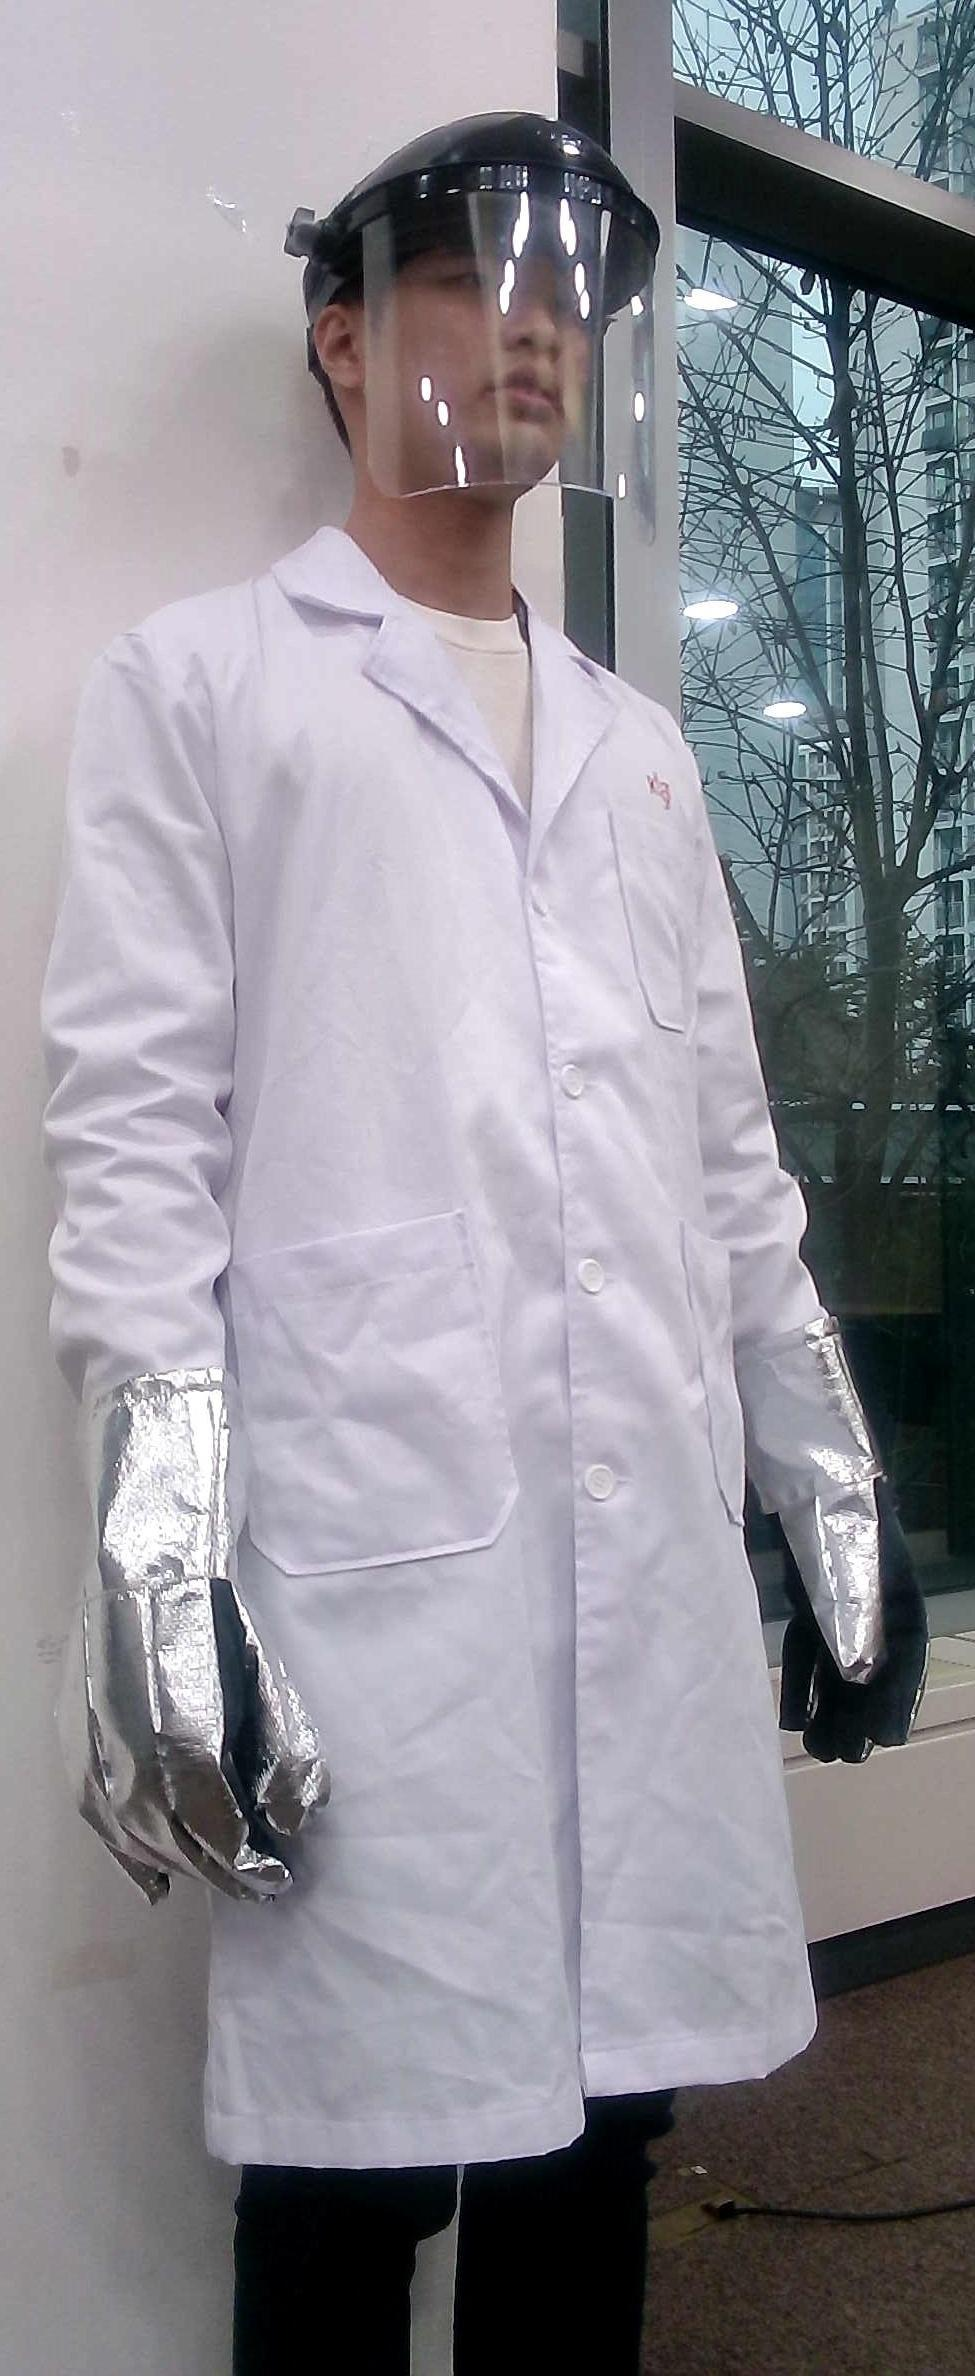lab_coat: (196, 706, 726, 2170)
